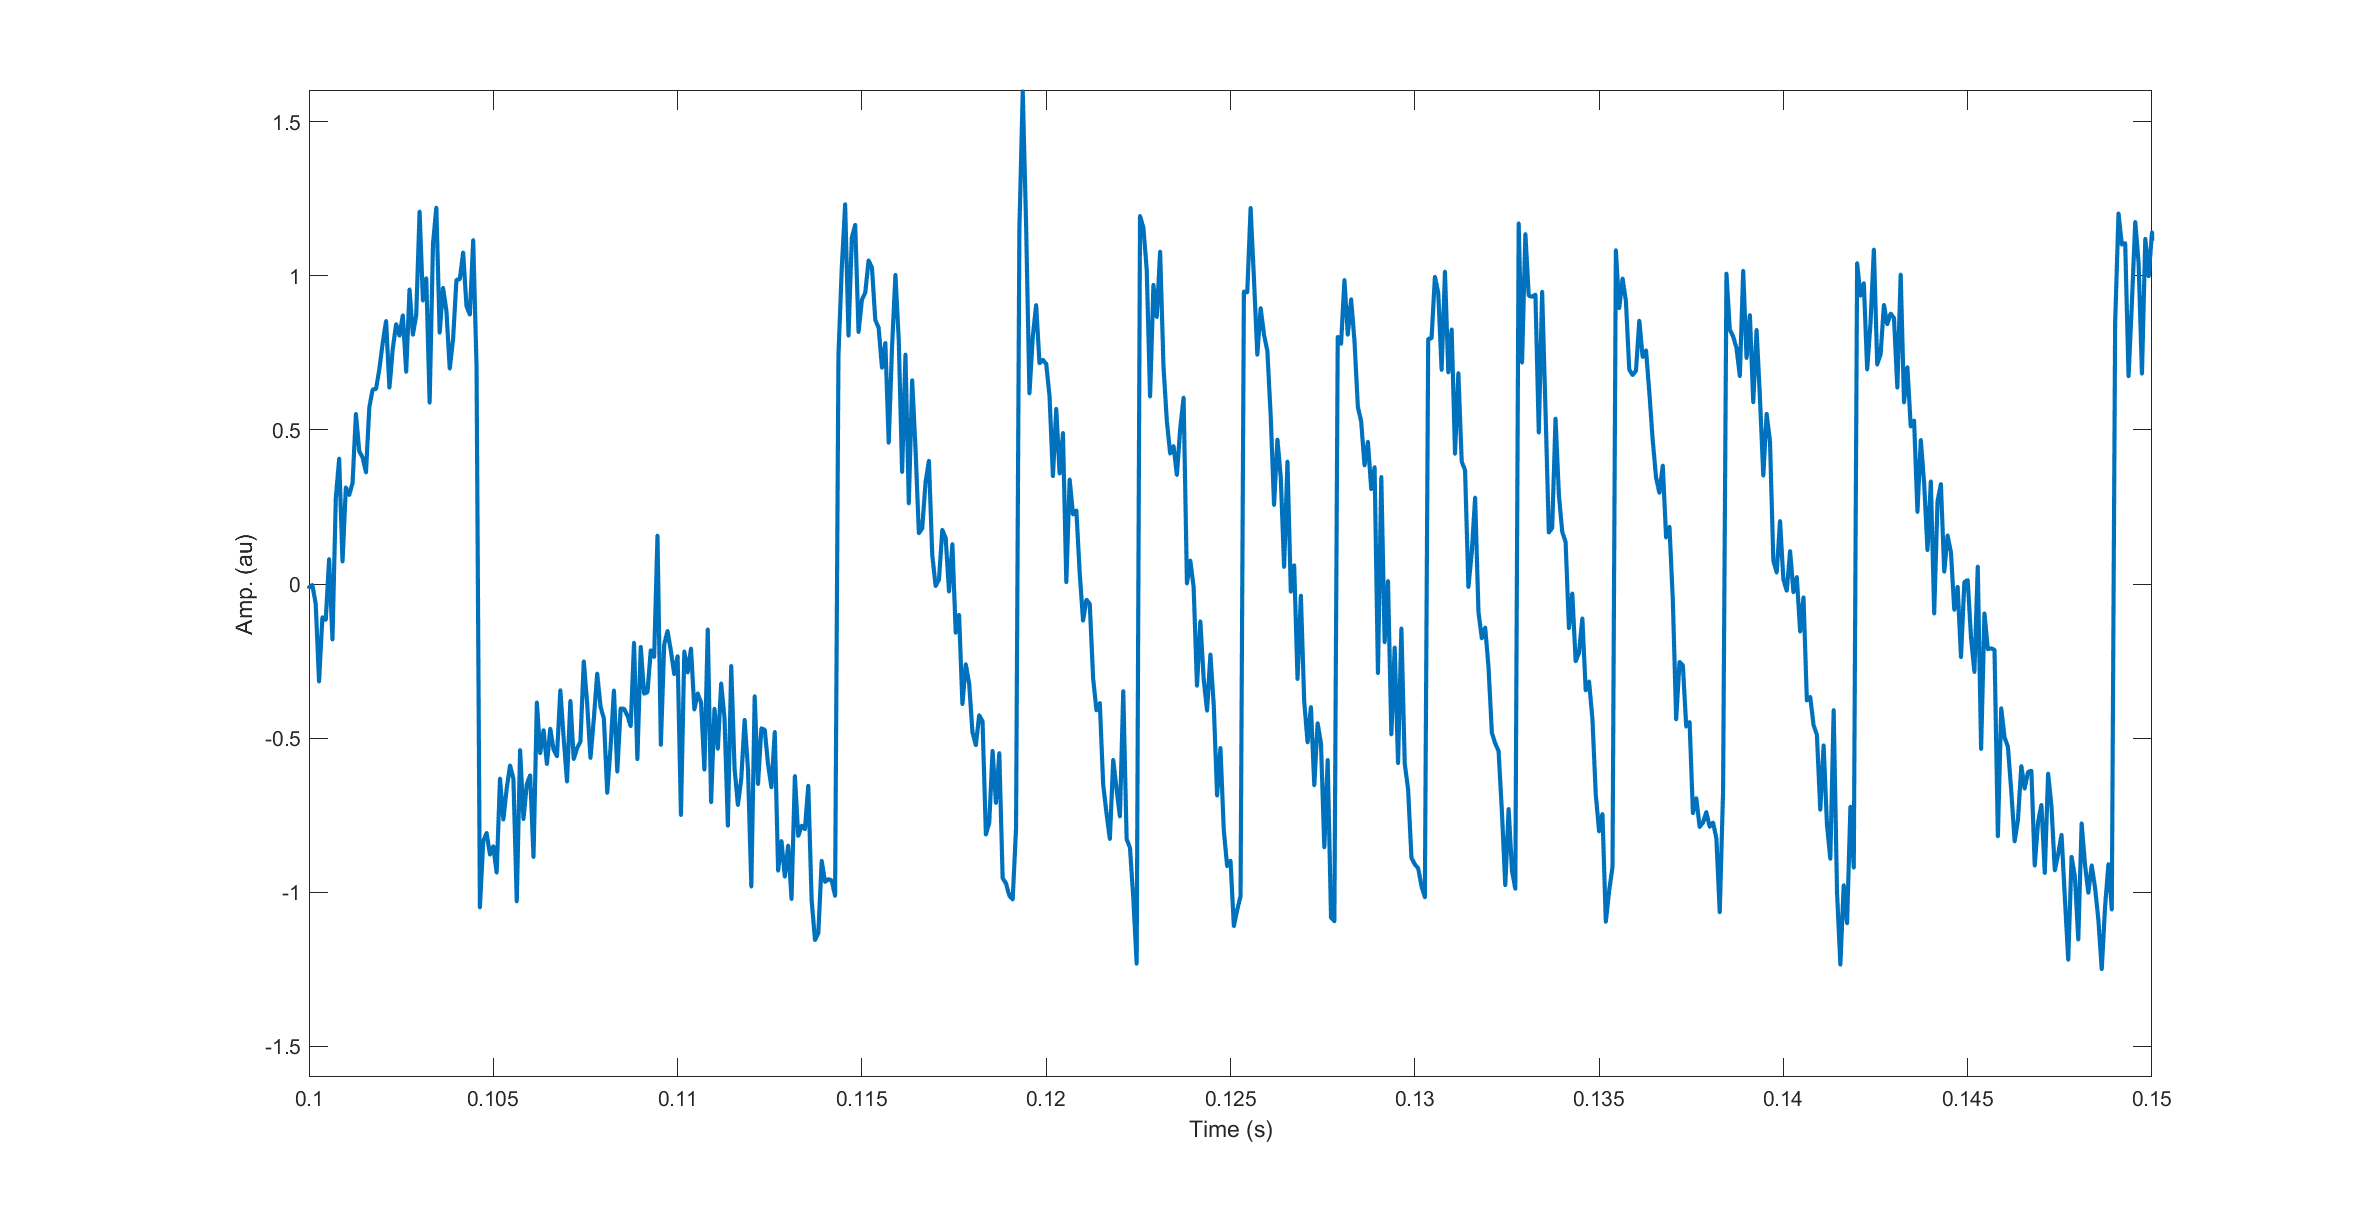negative_fringe: (1836, 227, 2063, 963), (818, 182, 989, 897), (997, 91, 1116, 907), (1707, 252, 1829, 901), (1125, 208, 1216, 962), (1501, 215, 1596, 892), (1225, 198, 1316, 895), (1600, 236, 1694, 903), (1417, 252, 1501, 900), (1326, 265, 1407, 921)
positive_fringe: (330, 188, 495, 887)
